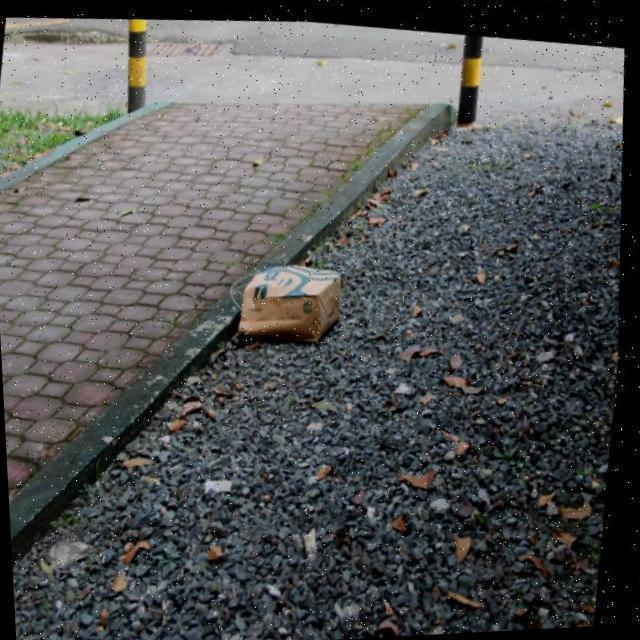Paper_Bag: (226, 250, 352, 344)
